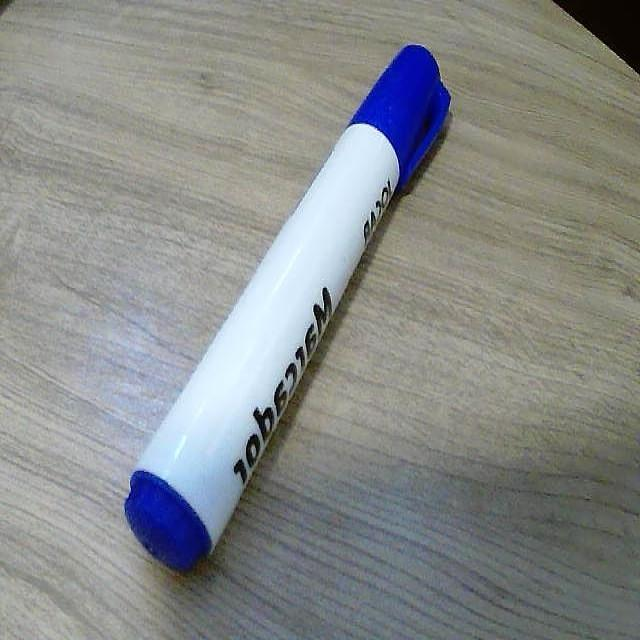caneta: (81, 11, 475, 602)
